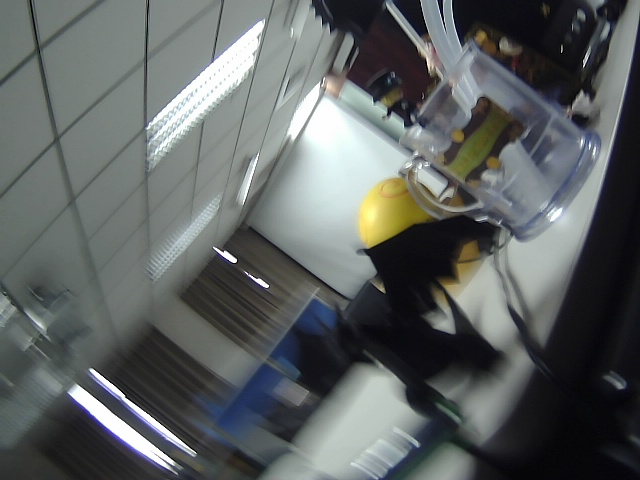charizard: (275, 193, 515, 444)
